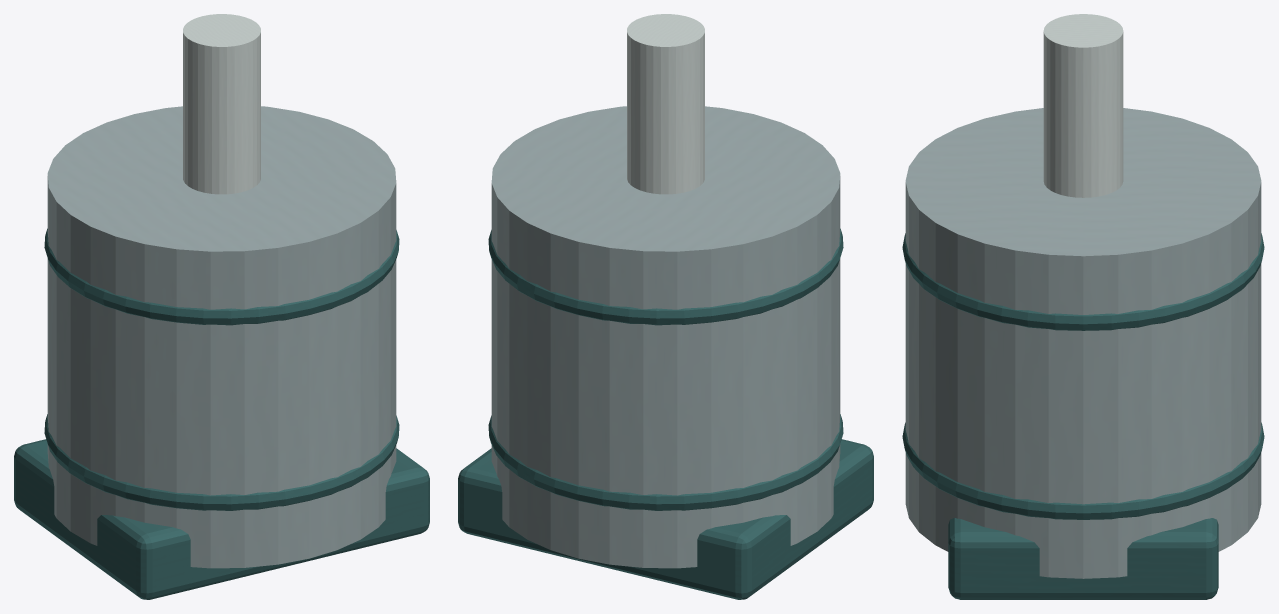
Rendered from motor.glb.
3 views of the same model, side by side, from view 1: azimuth 30°, elevation 25°; view 2: azimuth 150°, elevation 25°; view 3: azimuth 270°, elevation 25° (orthographic).
Parts seen in each view (by area): view 1: Motor_Casing, Motor_Foot, Motor_Shaft, Motor_Rib.001, Motor_Rib; view 2: Motor_Casing, Motor_Foot, Motor_Shaft, Motor_Rib.001, Motor_Rib; view 3: Motor_Casing, Motor_Foot, Motor_Shaft, Motor_Rib.001, Motor_Rib.
Boxes of the visible parts, left/top/right/bottom form: Motor_Casing: left=47, top=106, right=396, bottom=568; Motor_Foot: left=14, top=439, right=429, bottom=599; Motor_Shaft: left=183, top=14, right=260, bottom=194; Motor_Rib.001: left=44, top=228, right=399, bottom=325; Motor_Rib: left=44, top=414, right=399, bottom=510; Motor_Casing: left=491, top=106, right=840, bottom=568; Motor_Foot: left=458, top=439, right=873, bottom=599; Motor_Shaft: left=627, top=14, right=704, bottom=194; Motor_Rib.001: left=488, top=228, right=843, bottom=325; Motor_Rib: left=488, top=414, right=843, bottom=510; Motor_Casing: left=905, top=108, right=1261, bottom=578; Motor_Foot: left=948, top=518, right=1218, bottom=599; Motor_Shaft: left=1043, top=14, right=1123, bottom=197; Motor_Rib.001: left=902, top=233, right=1264, bottom=330; Motor_Rib: left=902, top=422, right=1264, bottom=519.
Bounding box in the file's own units: 0.59 × 0.9 × 0.59.
Materials: 4 (4 with a texture image).
